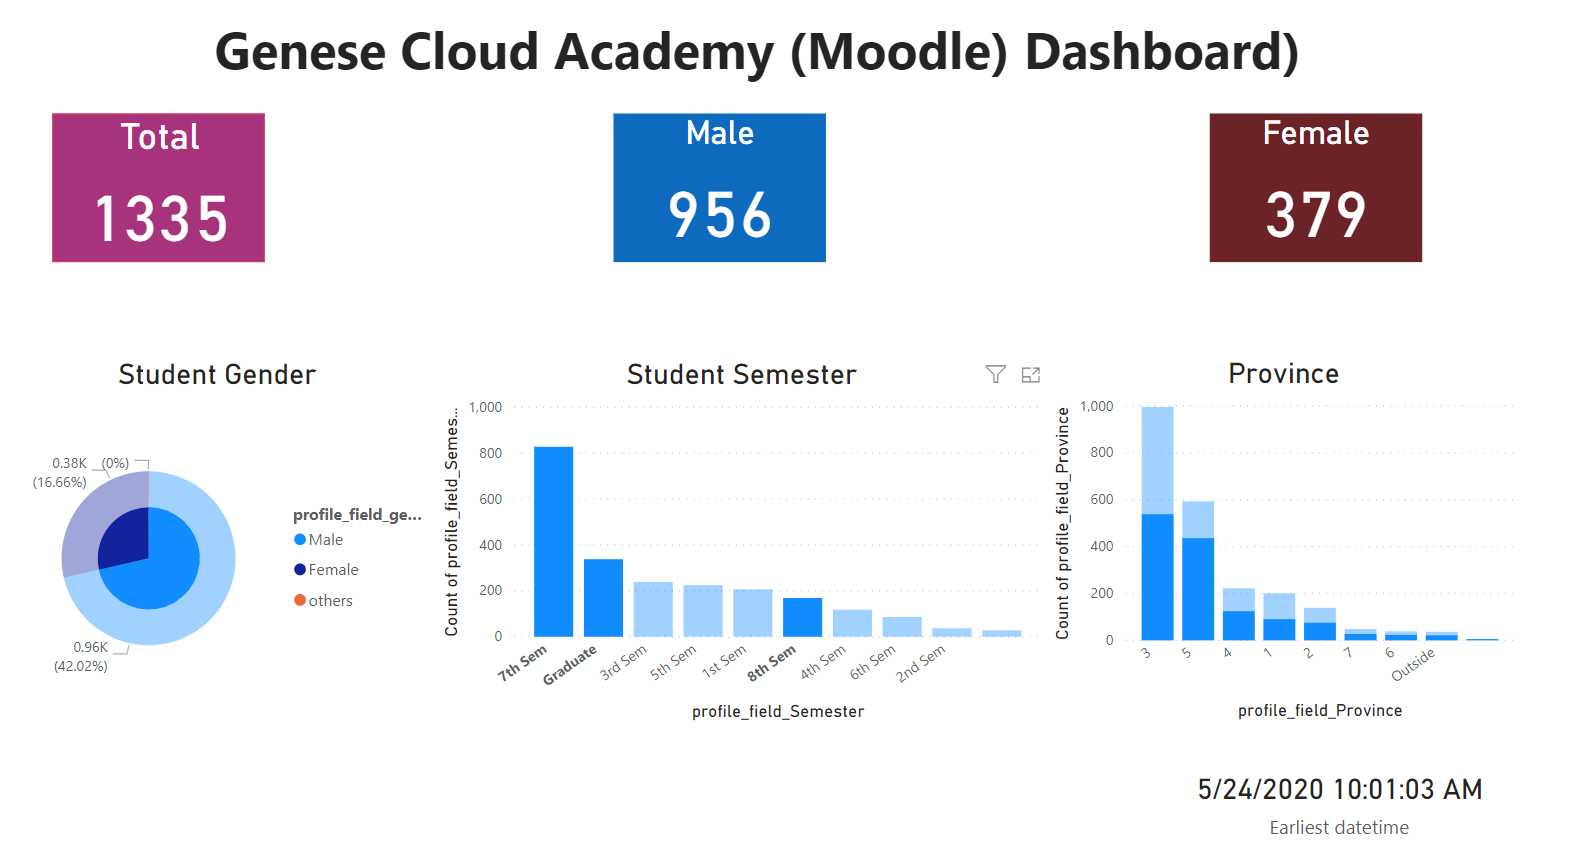

The page's visual inventory and layout, read from the dashboard file:
{"tool":"powerbi","page":{"name":"Dashboard","canvas":[1280,720],"ordinal":0},"visuals":[{"type":"pieChart","title":"Student Gender","fields":{"Category":["user_latest.profile_field_gender1"],"Series":["user_latest.profile_field_gender1"],"Y":["CountNonNull(user_latest.profile_field_gender)"]},"box":[2.1,303.2,367.2,310.5],"z":0},{"type":"columnChart","title":"Student Semester","fields":{"Category":["user_latest.profile_field_Semester1"],"Y":["CountNonNull(user_latest.profile_field_Semester)1"]},"box":[369.4,303.2,513.4,310.5],"z":1000},{"type":"columnChart","title":"Province","fields":{"Category":["user_latest.profile_field_Province1"],"Y":["CountNonNull(user_latest.profile_field_Province)1"]},"box":[882.3,302.7,397.4,310.5],"z":2000},{"type":"card","title":"Total","fields":{"Values":["CountNonNull(user_latest.id)"]},"box":[47.1,98.8,178.8,124.4],"z":3000},{"type":"card","title":"Male","fields":{"Values":["CountNonNull(user_latest.profile_field_gender)"]},"box":[518.2,98.8,178.8,124.4],"z":4000},{"type":"card","title":"Female","fields":{"Values":["CountNonNull(user_latest.profile_field_gender)"]},"box":[1019.5,98.8,178.8,124.4],"z":5000},{"type":"textbox","box":[0,10.9,1279.3,72.5],"z":6000},{"type":"card","fields":{"Values":["Min(Kathmandu.datetime)"]},"box":[994.2,641.5,268.2,68.9],"z":7000}]}

Visuals, with their boxes on the page's 1280x720 design canvas (x1, y1, x2, y2). These are canvas units, not pixel positions in the 1595x847 screenshot, which may show the page scaled, cropped or inside an application window:
"Student Gender" pieChart: <bbox>2, 303, 369, 614</bbox>
"Student Semester" columnChart: <bbox>369, 303, 883, 614</bbox>
"Province" columnChart: <bbox>882, 303, 1280, 613</bbox>
"Total" card: <bbox>47, 99, 226, 223</bbox>
"Male" card: <bbox>518, 99, 697, 223</bbox>
"Female" card: <bbox>1020, 99, 1198, 223</bbox>
textbox: <bbox>0, 11, 1279, 83</bbox>
card - Min(Kathmandu.datetime): <bbox>994, 642, 1262, 710</bbox>
